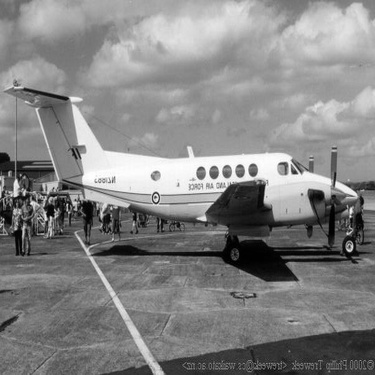airplane: (7, 69, 361, 260)
